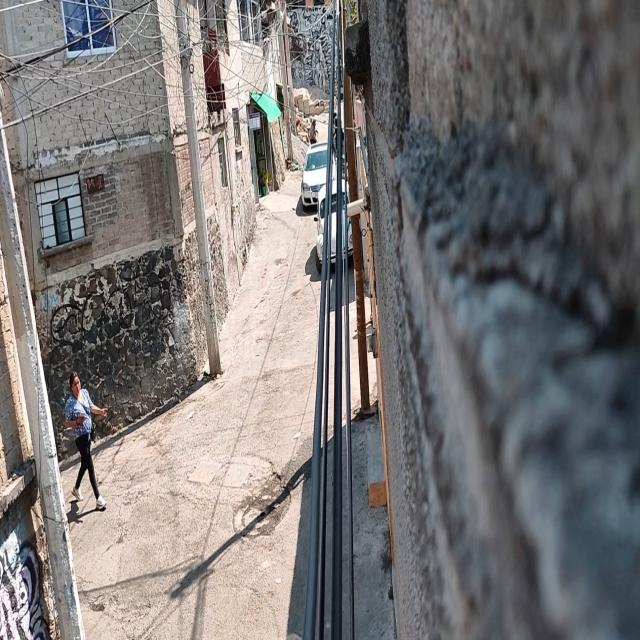adult: (63, 366, 110, 522)
